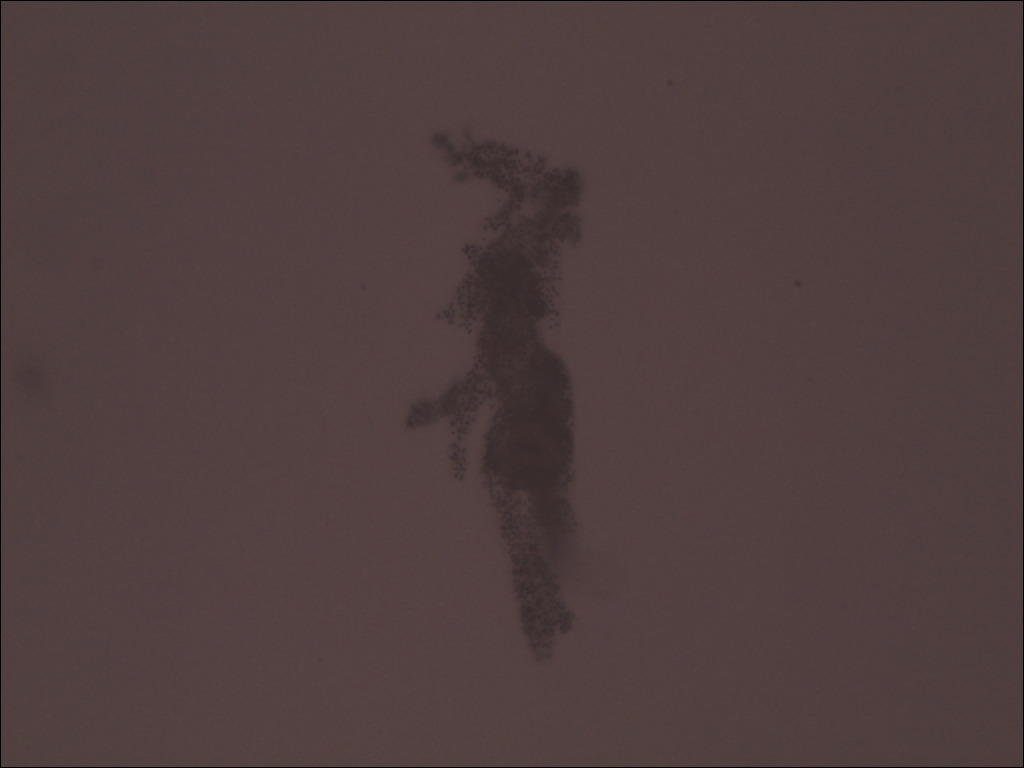amoeba: (391, 118, 612, 675)
